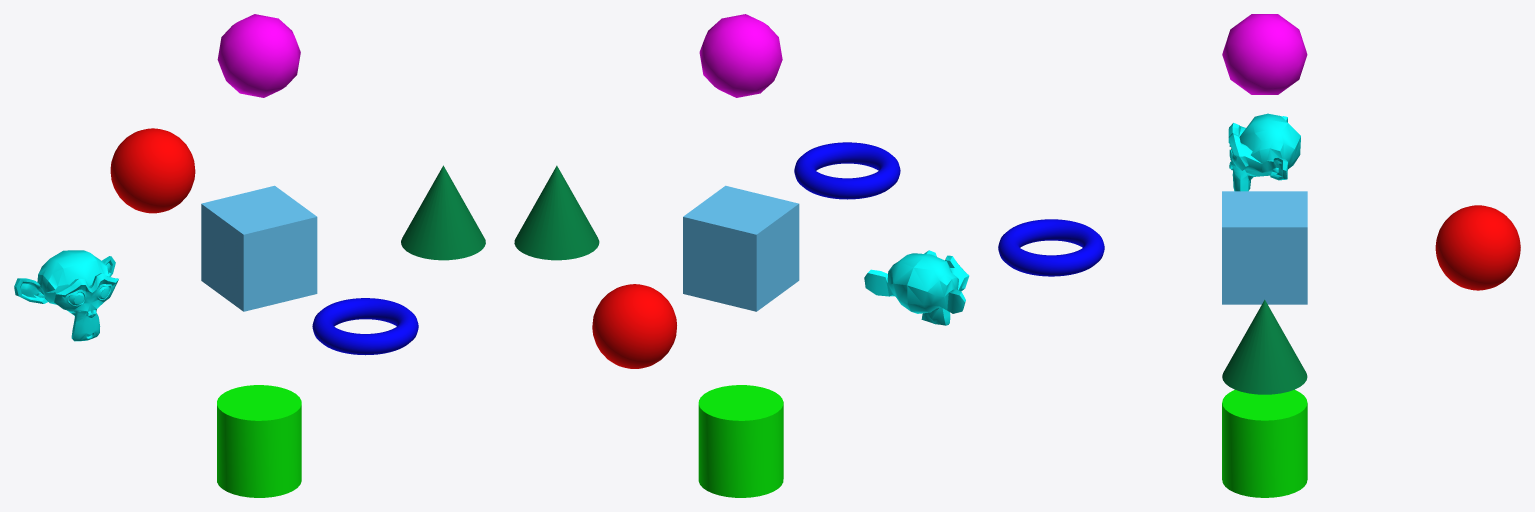
The model's file is importTest.dae.
The picture shows the model from 3 angles, left to right: view 1: azimuth 30°, elevation 25°; view 2: azimuth 150°, elevation 25°; view 3: azimuth 270°, elevation 25°; orthographic projection.
Parts seen in each view (by area): view 1: Cube, Cylinder, Sphere, Icosphere, Suzanne, Cone, Torus; view 2: Cube, Cylinder, Sphere, Icosphere, Suzanne, Cone, Torus; view 3: Cube, Cylinder, Sphere, Icosphere, Cone, Torus, Suzanne.
Boxes of the visible parts, x1=… form: Cube: x1=201, y1=185, x2=317, y2=311; Cylinder: x1=217, y1=385, x2=301, y2=497; Sphere: x1=110, y1=128, x2=195, y2=213; Icosphere: x1=217, y1=14, x2=300, y2=97; Suzanne: x1=14, y1=250, x2=118, y2=341; Cone: x1=401, y1=165, x2=485, y2=260; Torus: x1=312, y1=298, x2=418, y2=355; Cube: x1=683, y1=185, x2=799, y2=311; Cylinder: x1=698, y1=385, x2=783, y2=497; Sphere: x1=592, y1=284, x2=676, y2=368; Icosphere: x1=699, y1=14, x2=782, y2=97; Suzanne: x1=864, y1=250, x2=969, y2=325; Cone: x1=514, y1=165, x2=599, y2=260; Torus: x1=794, y1=142, x2=900, y2=199; Cube: x1=1222, y1=191, x2=1307, y2=304; Cylinder: x1=1222, y1=389, x2=1307, y2=497; Sphere: x1=1435, y1=205, x2=1520, y2=290; Icosphere: x1=1222, y1=14, x2=1307, y2=94; Cone: x1=1222, y1=299, x2=1307, y2=394; Torus: x1=998, y1=219, x2=1104, y2=276; Suzanne: x1=1228, y1=113, x2=1300, y2=191.
Bounding box in the file's own units: 100 × 97.03 × 99.05.
